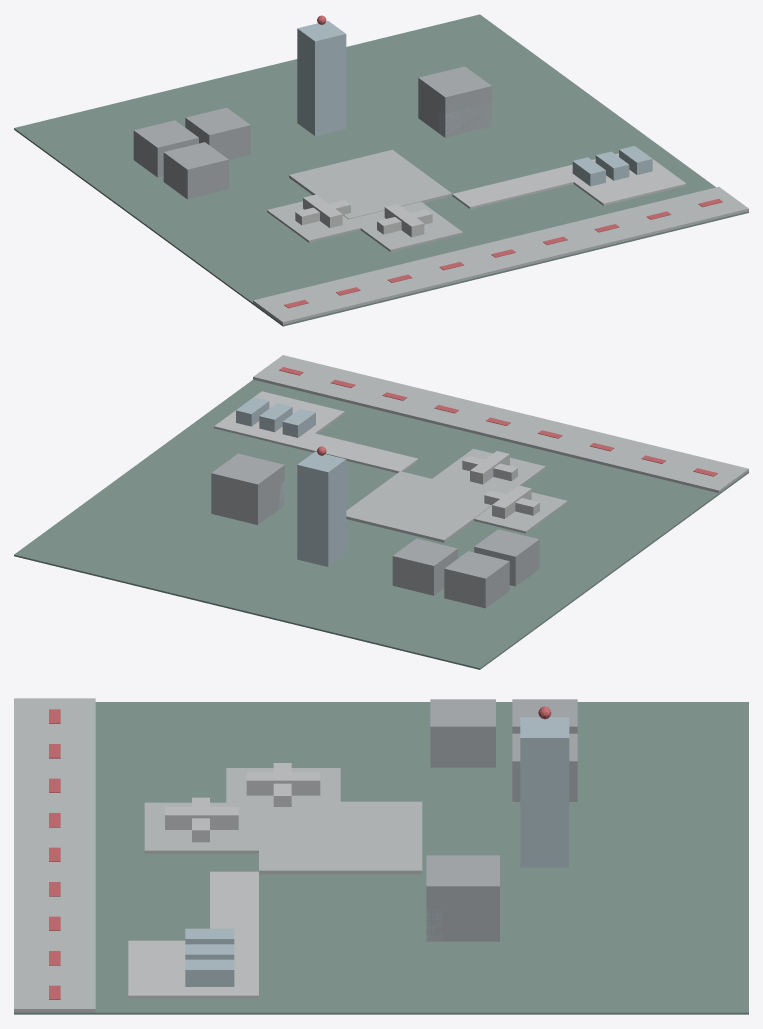
Rendered from stage_10.glb.
The picture shows the model from 3 angles, top to bottom: view 1: azimuth 30°, elevation 25°; view 2: azimuth 150°, elevation 25°; view 3: azimuth 270°, elevation 25°; orthographic projection. The views are drawn at different scales.
Visible parts, largest first — view 1: geometry_0; view 2: geometry_0; view 3: geometry_0.
Boxes of the visible parts, x1,y1,x2,y2 form: geometry_0: [14, 14, 748, 326]; geometry_0: [14, 355, 748, 669]; geometry_0: [14, 698, 748, 1014].
Bounding box in the file's own units: 9 × 2.06 × 9.
